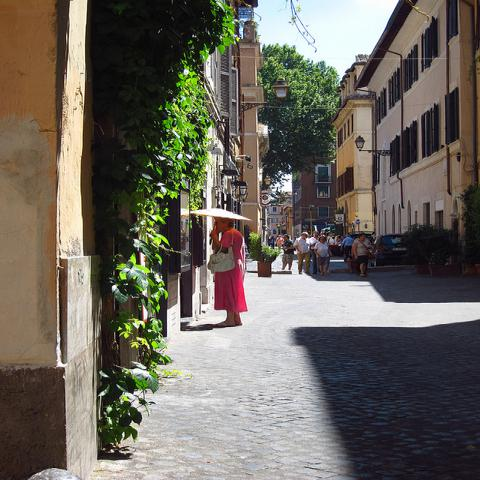car: (370, 234, 406, 267), (349, 231, 376, 243), (268, 238, 295, 247)
